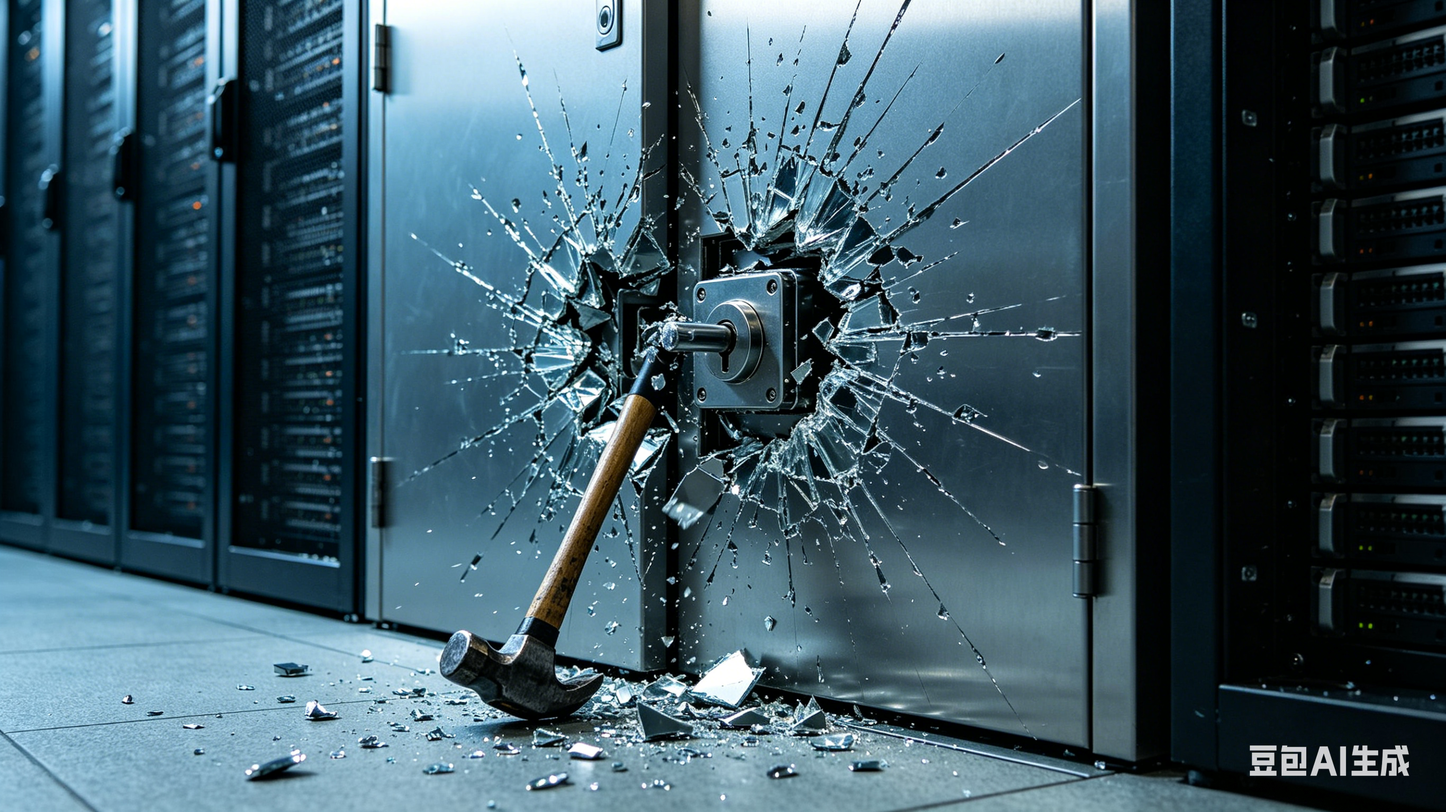BadLock: (568, 229, 861, 438)
